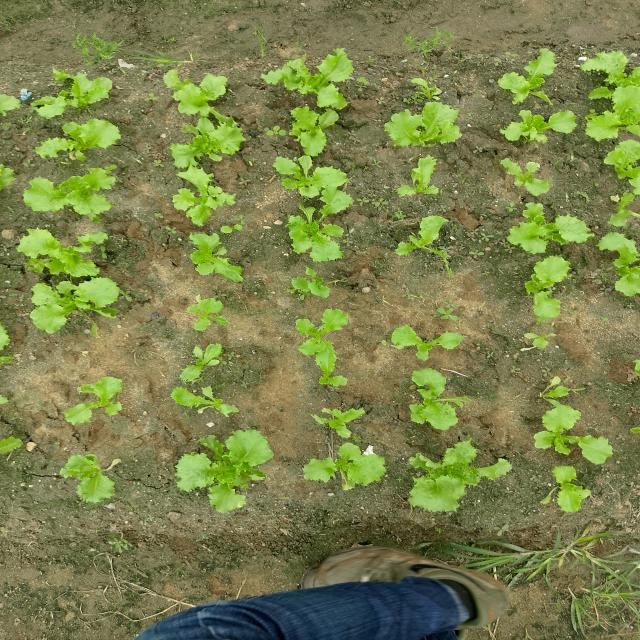Lettuce: (402, 422, 500, 521), (10, 267, 125, 342), (168, 428, 268, 504), (270, 191, 350, 280), (502, 402, 614, 464), (570, 61, 640, 146), (297, 440, 396, 495), (502, 200, 594, 258), (384, 95, 467, 157), (164, 278, 242, 342), (400, 364, 470, 429), (290, 303, 354, 373), (66, 369, 130, 436), (51, 163, 121, 224), (277, 54, 360, 105), (173, 163, 239, 225), (62, 446, 128, 507), (167, 71, 237, 126), (15, 226, 84, 280), (396, 212, 456, 269), (48, 70, 117, 116), (500, 112, 576, 150), (286, 108, 339, 160), (305, 402, 370, 444), (609, 208, 640, 295), (496, 157, 556, 200), (398, 156, 447, 204), (520, 256, 577, 297)
